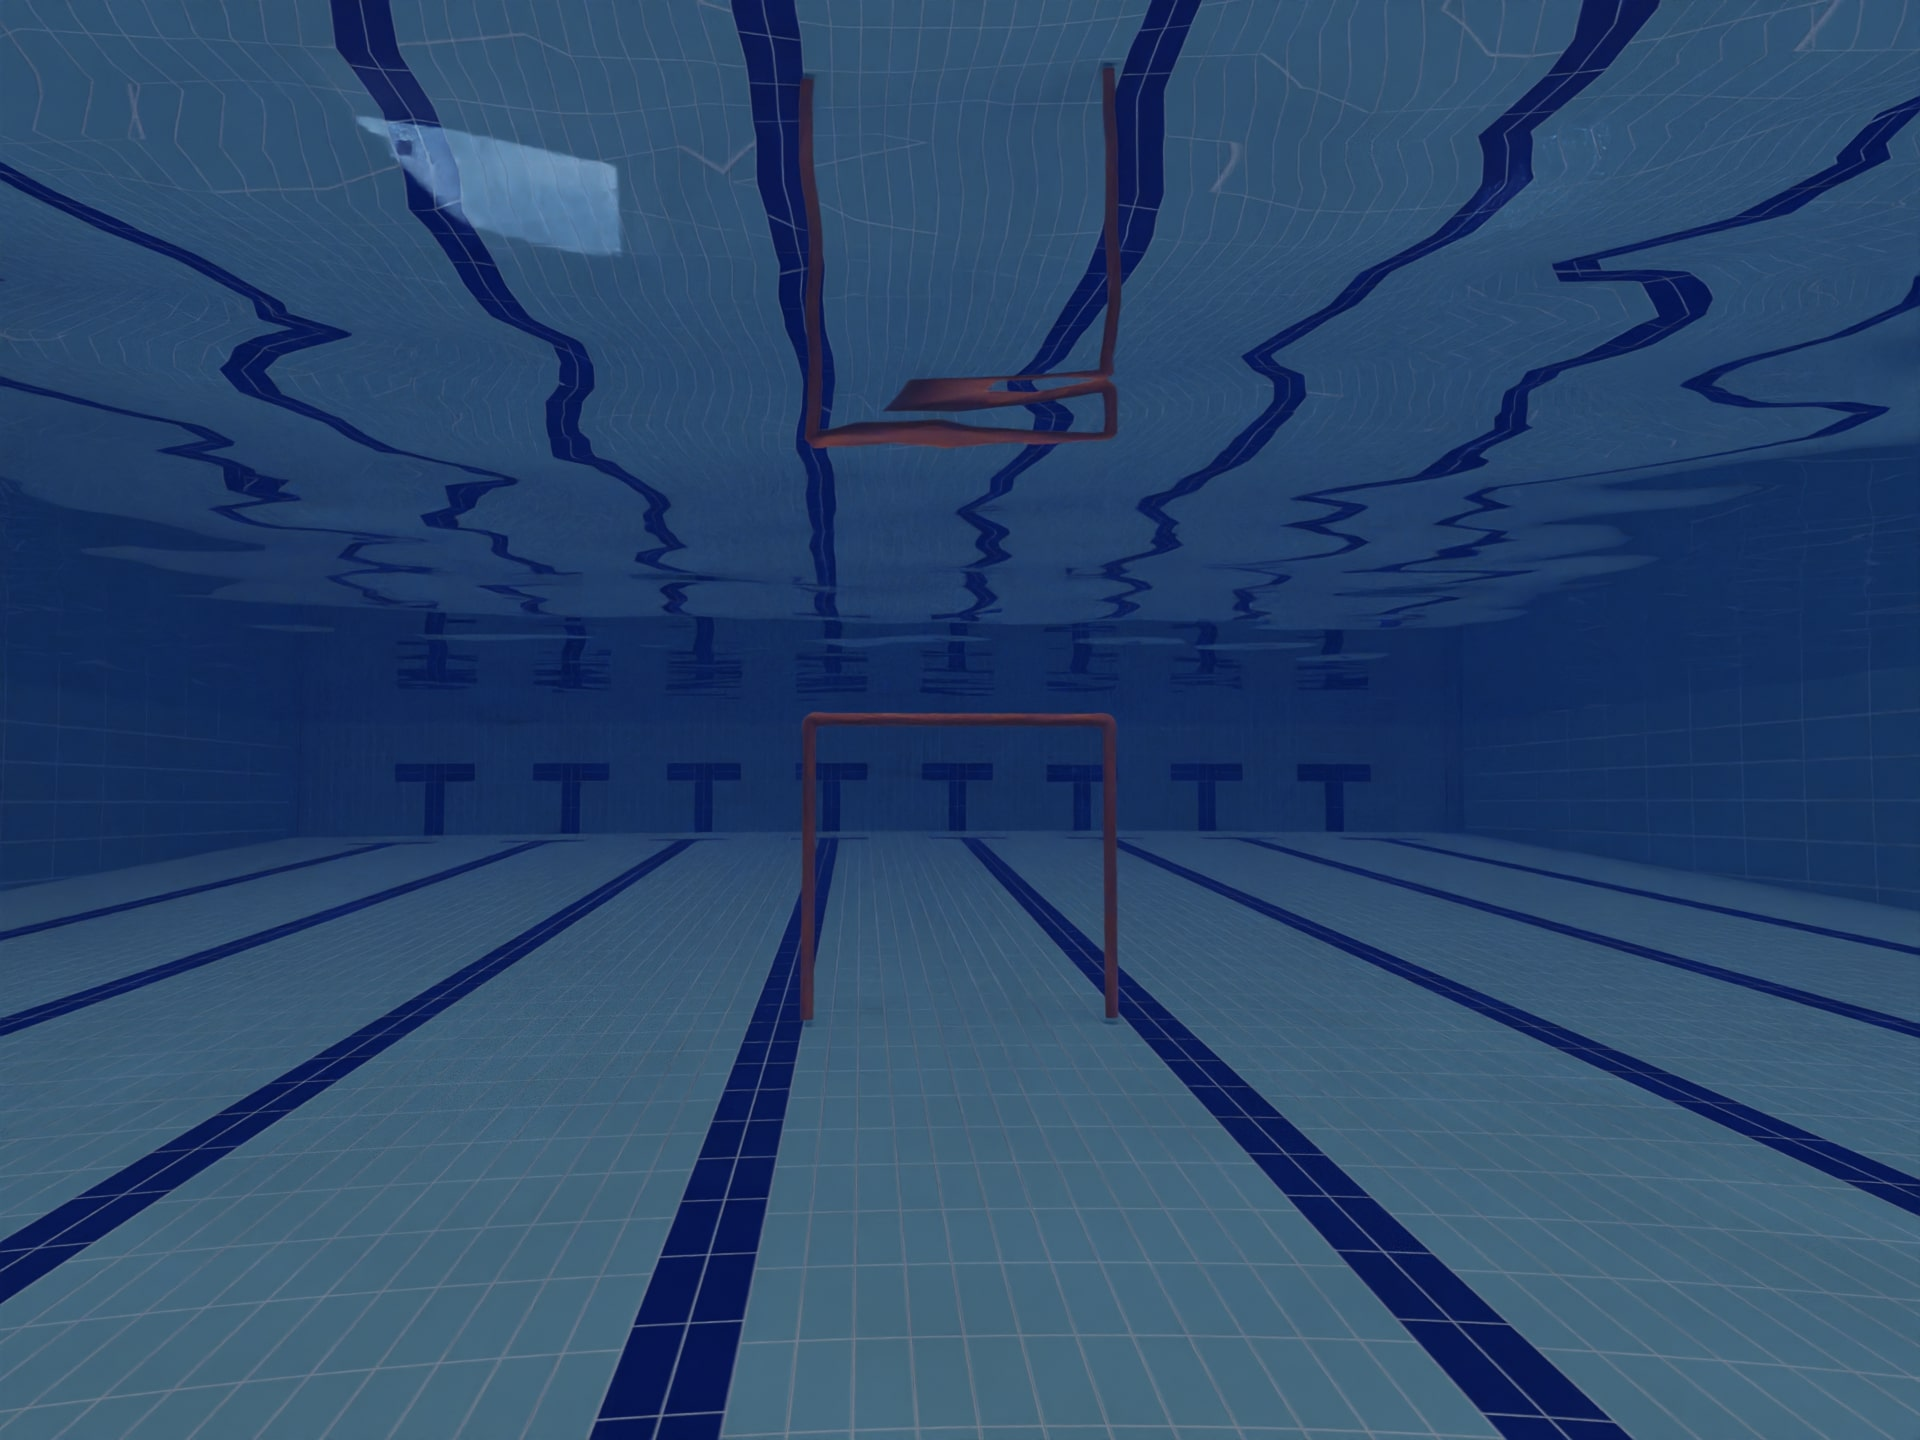gate: (777, 678, 1187, 1036)
